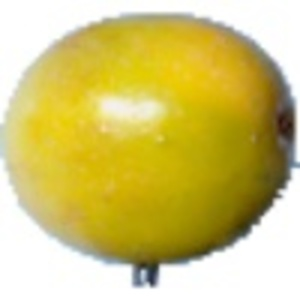maracujá: (1, 4, 300, 289)
